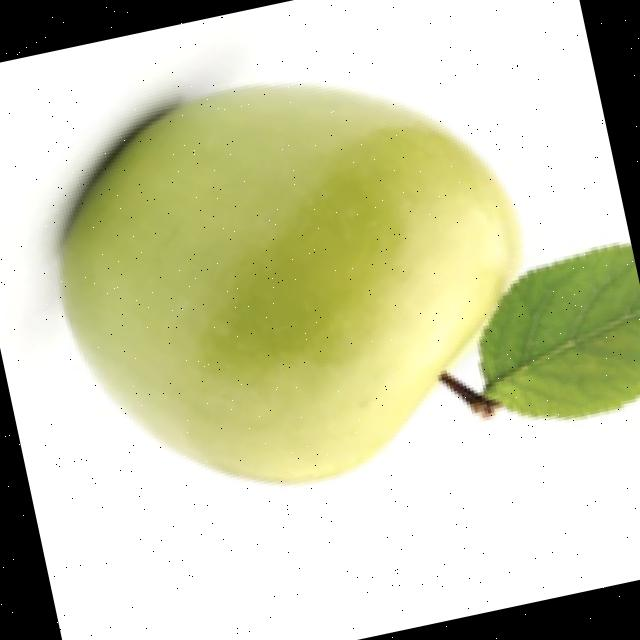apple: (25, 55, 640, 490)
